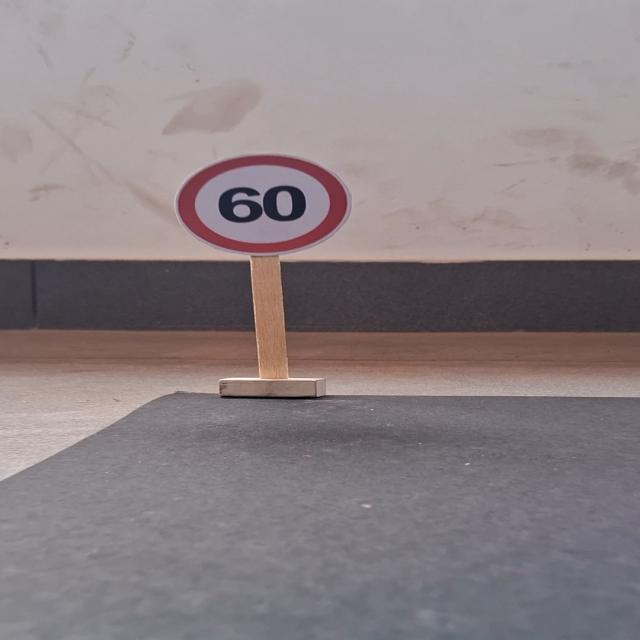Speed60: (165, 147, 362, 256)
